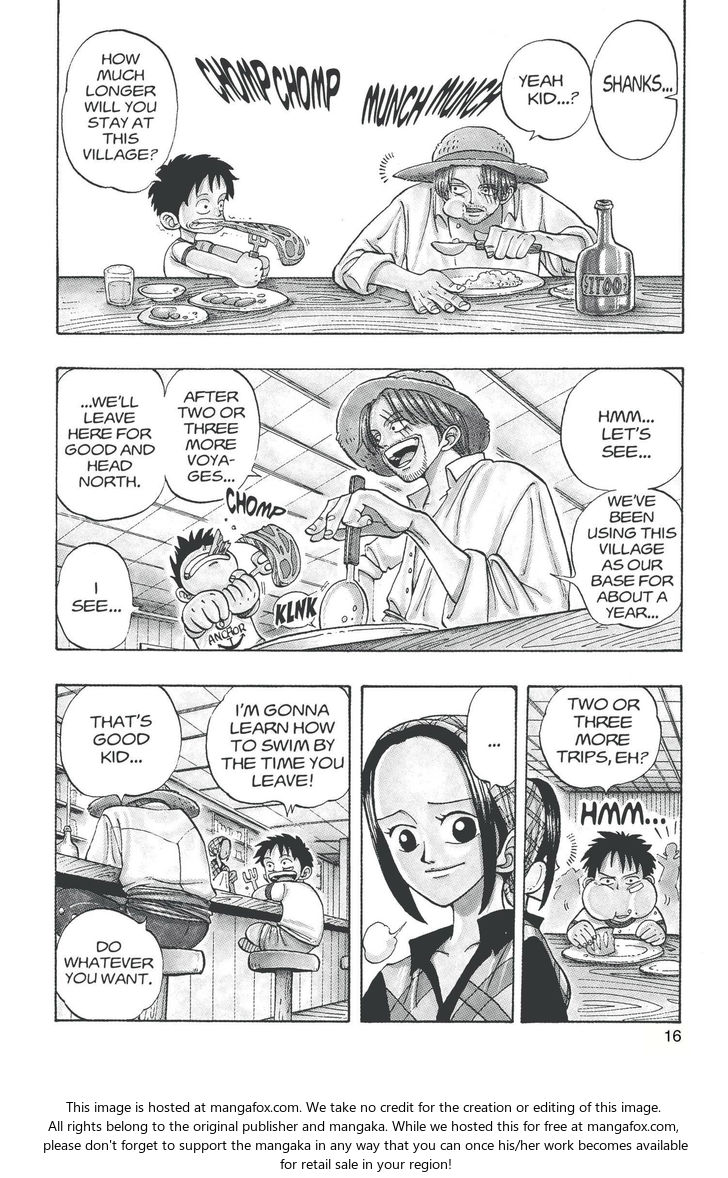bubble: (61, 29, 178, 193), (206, 685, 349, 816), (550, 489, 682, 628), (57, 367, 165, 521), (561, 368, 683, 490), (60, 685, 182, 804), (540, 686, 662, 794), (164, 369, 262, 503), (591, 20, 679, 161), (55, 907, 163, 1021), (500, 39, 592, 140), (56, 543, 142, 650), (467, 686, 516, 790)
